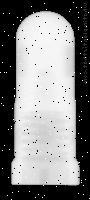Camlog: (9, 10, 80, 185)
